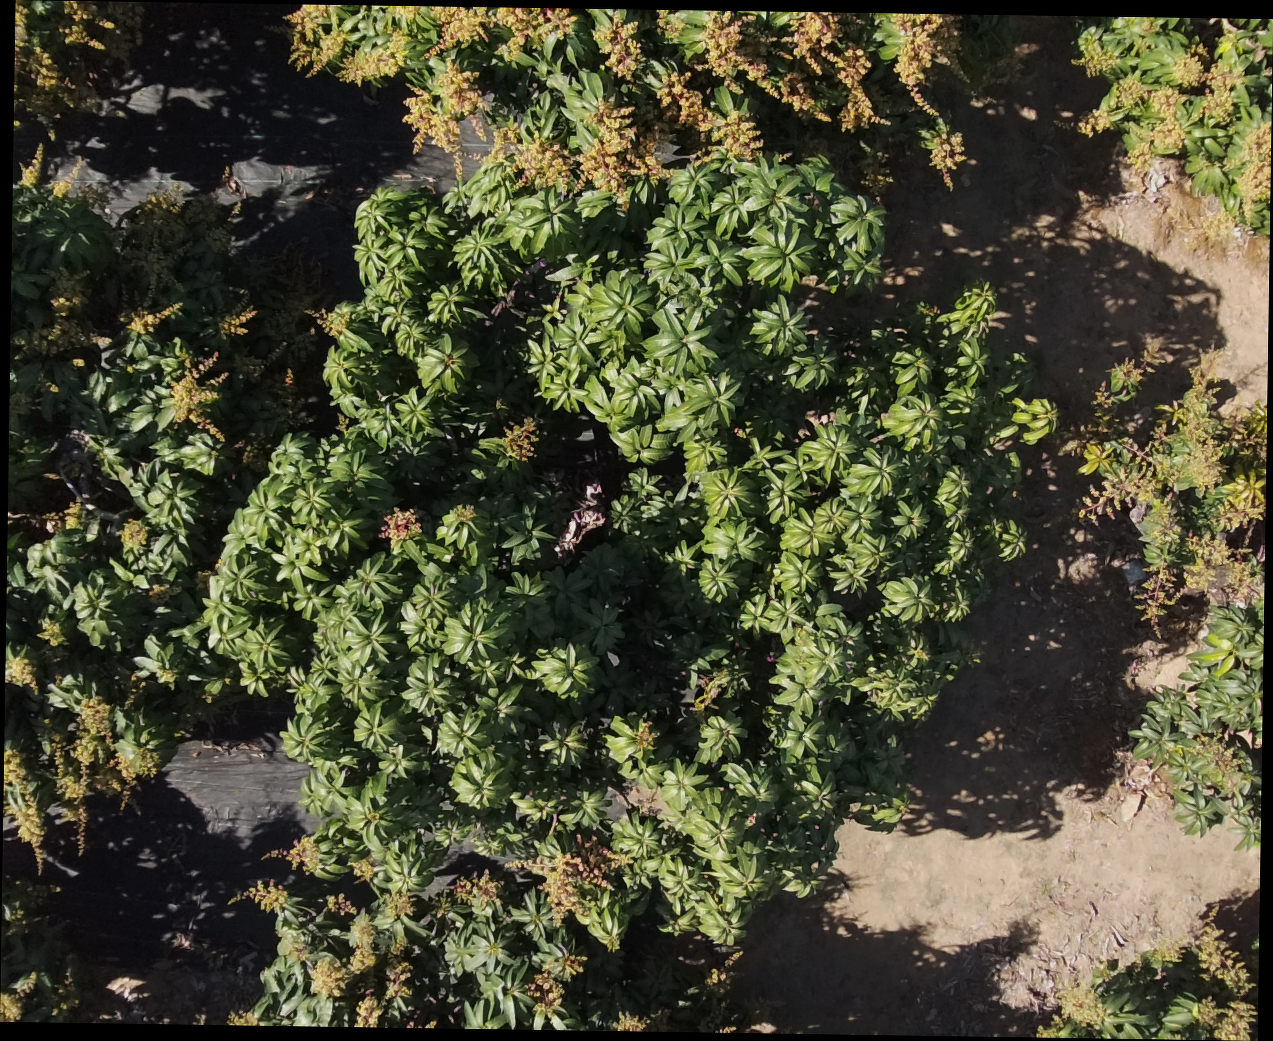flowers: (1082, 363, 1266, 614), (699, 11, 889, 130), (51, 696, 160, 849), (118, 197, 233, 327), (513, 834, 629, 921), (403, 59, 487, 176), (289, 5, 411, 83), (10, 269, 111, 364), (656, 72, 763, 159), (273, 911, 377, 999), (577, 100, 669, 200), (428, 7, 575, 59), (1110, 76, 1185, 175), (890, 13, 959, 113), (487, 122, 575, 192), (14, 0, 61, 129), (1194, 905, 1259, 998), (1171, 43, 1239, 125), (169, 352, 229, 441), (3, 748, 45, 872), (355, 941, 413, 1027), (527, 953, 586, 1018), (1237, 120, 1270, 225), (593, 14, 643, 80), (922, 125, 966, 189), (59, 1, 116, 50), (1193, 999, 1258, 1040), (453, 869, 501, 915), (1072, 27, 1118, 77), (263, 835, 320, 874), (0, 970, 39, 1022), (127, 303, 182, 335), (380, 508, 421, 550), (1055, 108, 1112, 137), (502, 417, 538, 461), (244, 880, 288, 913), (50, 157, 85, 197), (311, 305, 351, 338), (5, 655, 38, 694), (716, 1021, 819, 1033), (18, 143, 43, 188), (218, 306, 256, 336), (656, 10, 683, 43), (119, 519, 149, 549), (384, 892, 414, 919), (38, 618, 68, 646), (326, 894, 358, 916), (613, 1012, 647, 1031), (387, 5, 421, 24), (351, 858, 376, 881), (195, 570, 215, 592), (226, 1012, 261, 1025), (153, 668, 177, 687), (1035, 1025, 1064, 1037), (405, 1019, 437, 1028)
